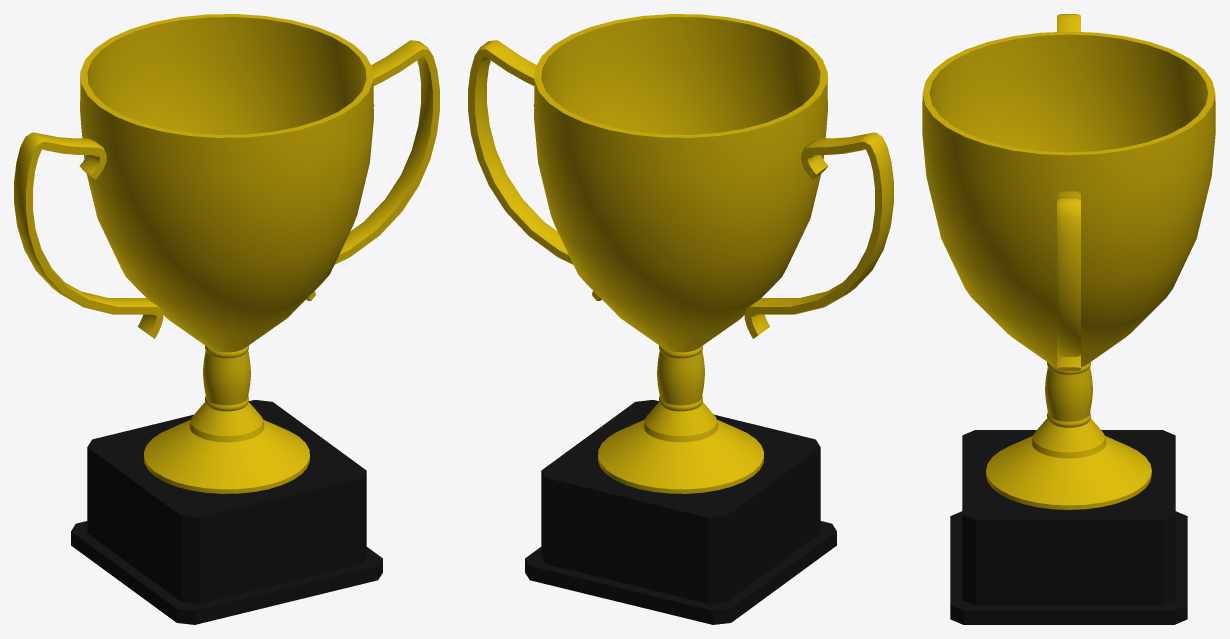
Rendered from animation_lowres.obj.
The picture shows the model from 3 angles, left to right: view 1: azimuth 30°, elevation 25°; view 2: azimuth 150°, elevation 25°; view 3: azimuth 270°, elevation 25°; orthographic projection.
Parts seen in each view (by area): view 1: trophy; view 2: trophy; view 3: trophy.
Part boxes in pixels (box(x1,y1,x2,y2)): trophy: box(14, 14, 439, 624); trophy: box(468, 14, 893, 624); trophy: box(922, 14, 1215, 624).
Bounding box in the file's own units: 0.4235 × 0.4688 × 0.259.
